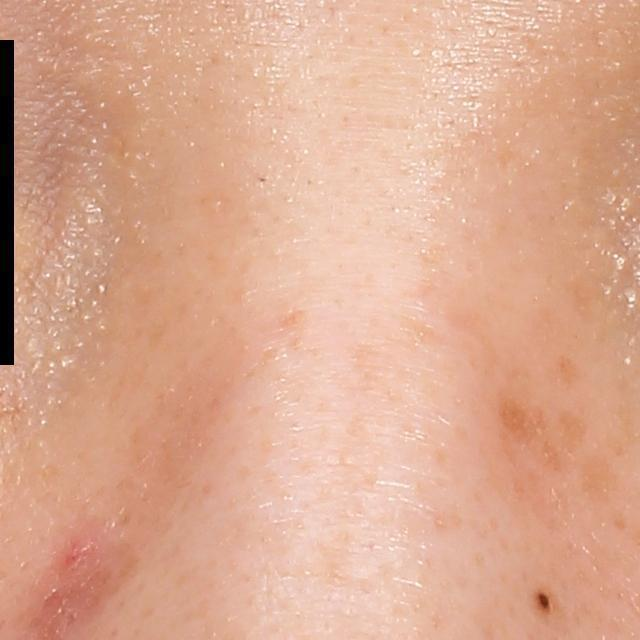melasma: (496, 395, 572, 482), (580, 450, 614, 512), (556, 407, 594, 460), (555, 349, 586, 394)
